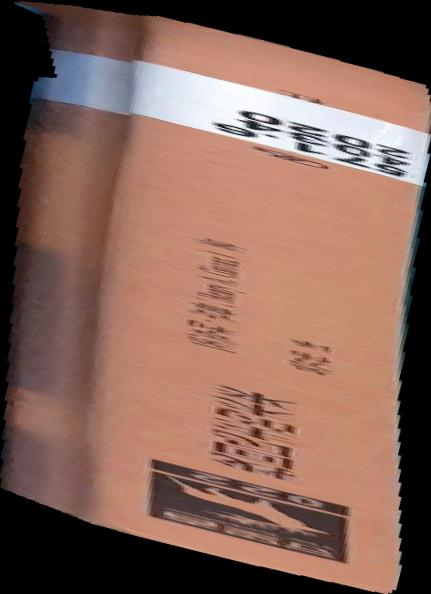reverse: (1, 1, 431, 594)
